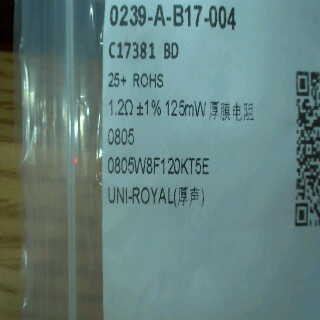1.2R: (103, 95, 135, 148)
